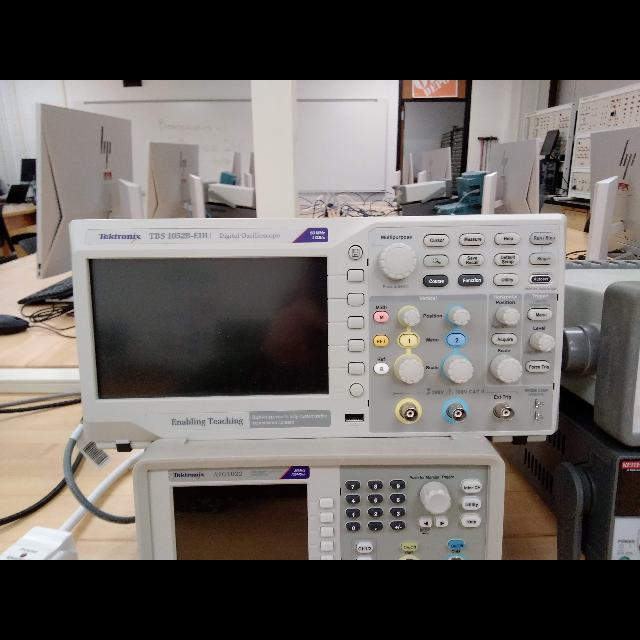Digital-Oscilloscope: (71, 216, 565, 440)
